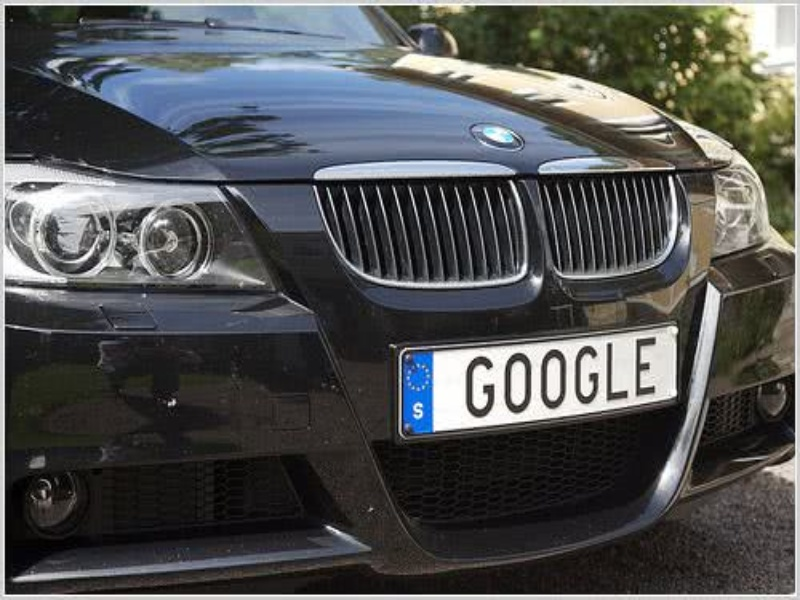placa: (385, 325, 692, 440)
